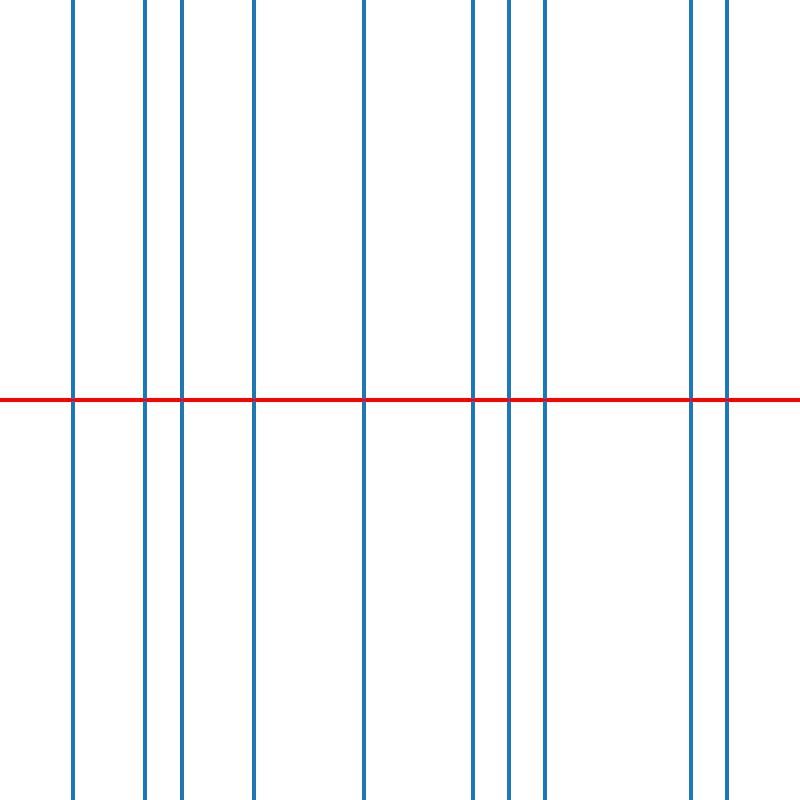root: (541, 396, 549, 404), (141, 396, 149, 404), (250, 396, 258, 404), (469, 396, 476, 404), (360, 396, 367, 404), (69, 396, 76, 404), (178, 396, 185, 404), (723, 396, 730, 404), (505, 396, 512, 404), (687, 396, 694, 404)
